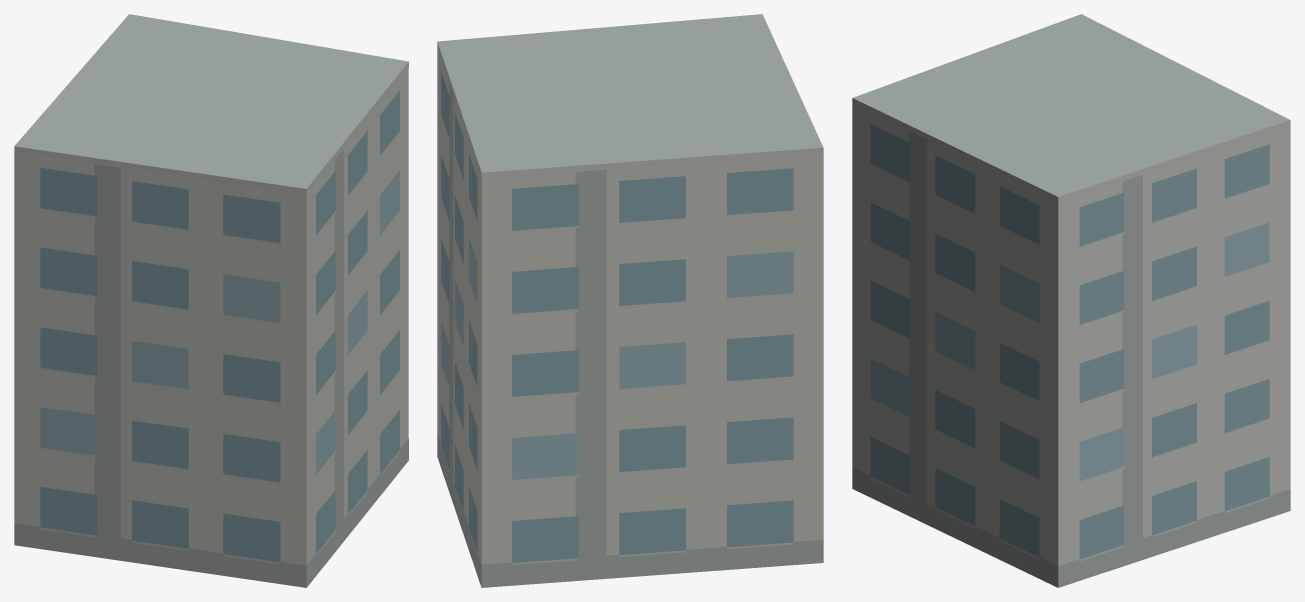
File: survey-upis-32864643.glb
3 renders of one model, left to right at view 1: azimuth 30°, elevation 25°; view 2: azimuth 150°, elevation 25°; view 3: azimuth 270°, elevation 25°, orthographic. The views are drawn at different scales.
Visible parts, largest first — view 1: survey-upis-32864643.tmp; view 2: survey-upis-32864643.tmp; view 3: survey-upis-32864643.tmp.
Boxes of the visible parts, x1,y1,x2,y2 form: survey-upis-32864643.tmp: (14,14,408,587); survey-upis-32864643.tmp: (437,14,823,587); survey-upis-32864643.tmp: (852,14,1290,587).
Bounding box in the file's own units: 16.43 × 16.35 × 16.62.
